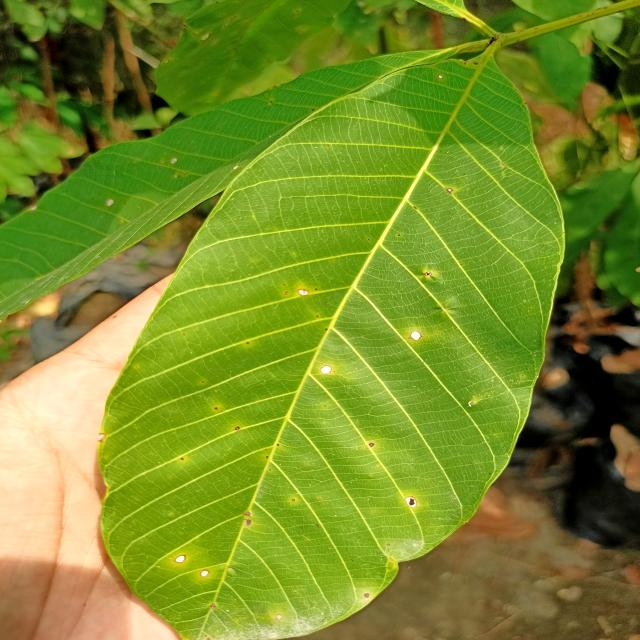Colletotrichum: (404, 496, 417, 508), (410, 330, 422, 340), (174, 554, 186, 564), (320, 365, 332, 374), (297, 289, 310, 296), (200, 570, 210, 578), (447, 188, 453, 193), (425, 272, 432, 276), (364, 593, 369, 598), (235, 426, 240, 431), (369, 443, 374, 447), (284, 291, 288, 295), (292, 499, 295, 501)
